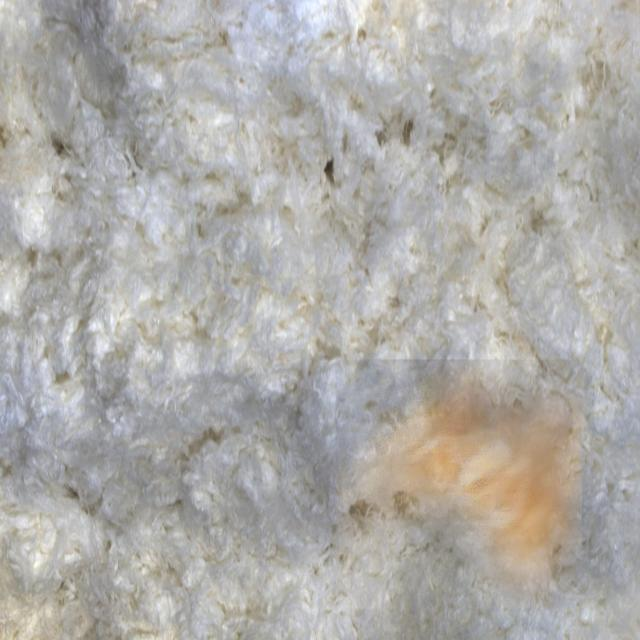dust: (335, 360, 582, 609)
